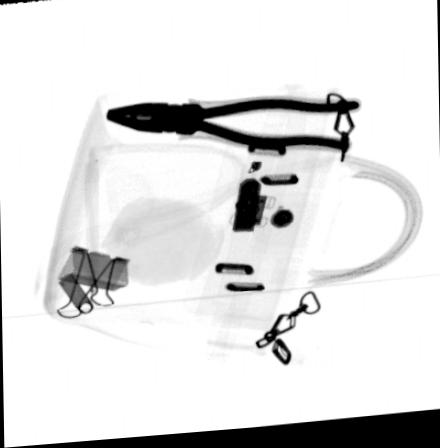Pliers: (104, 99, 363, 159)
